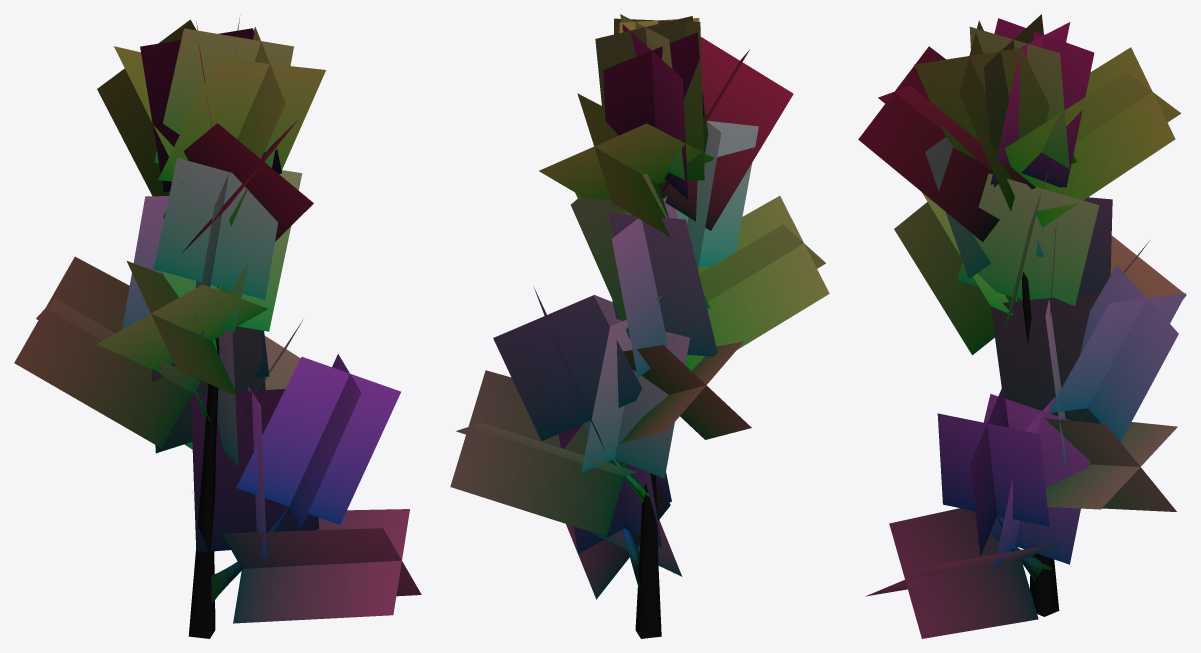
The model's file is SuperTree_23.fbx.
The picture shows the model from 3 angles, left to right: view 1: azimuth 30°, elevation 25°; view 2: azimuth 150°, elevation 25°; view 3: azimuth 270°, elevation 25°; orthographic projection. The views are drawn at different scales.
Parts seen in each view (by area): view 1: SuperTree_23; view 2: SuperTree_23; view 3: SuperTree_23.
Part boxes in pixels (left/top/right/bottom): SuperTree_23: left=14, top=15, right=421, bottom=638; SuperTree_23: left=450, top=14, right=829, bottom=638; SuperTree_23: left=858, top=14, right=1186, bottom=638.
Bounding box in the file's own units: 544 × 1009 × 511.
